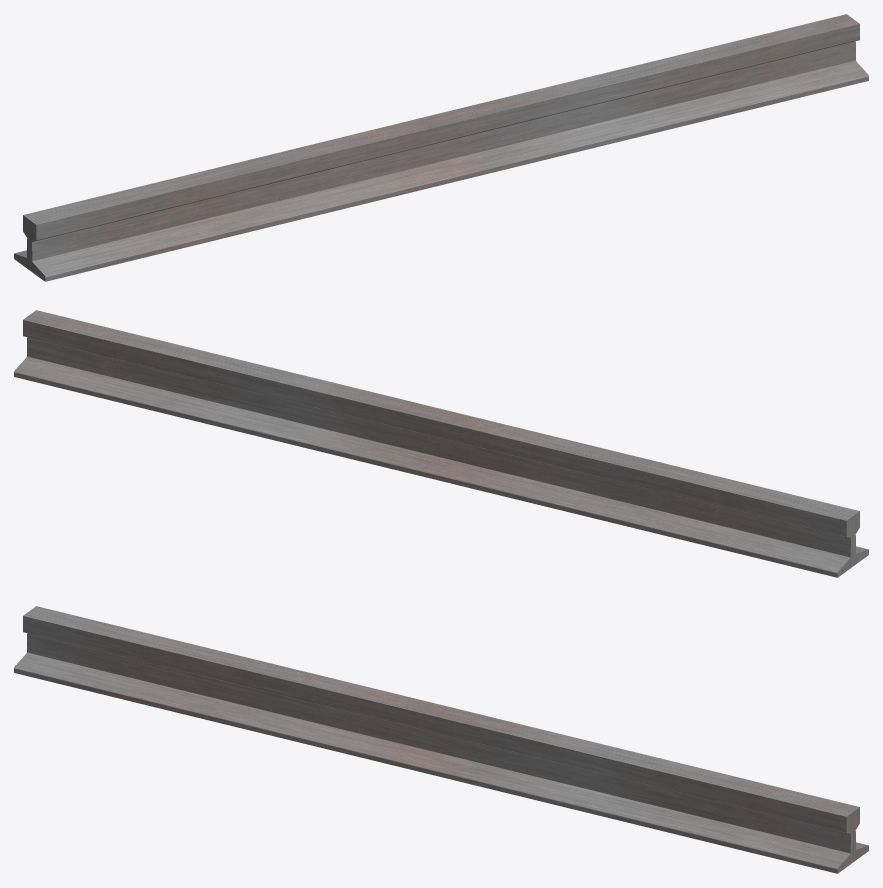
Rendered from railSegment.glb.
The picture shows the model from 3 angles, top to bottom: view 1: azimuth 30°, elevation 25°; view 2: azimuth 150°, elevation 25°; view 3: azimuth 330°, elevation 25°; orthographic projection.
Parts seen in each view (by area): view 1: railSample; view 2: railSample; view 3: railSample.
Part boxes in pixels (box(x1,y1,x2,y2)): railSample: box(14, 14, 868, 281); railSample: box(14, 310, 868, 577); railSample: box(14, 606, 868, 873).
Bounding box in the file's own units: 0.0832 × 0.00487 × 0.00547.
1 material, 1 textured.
